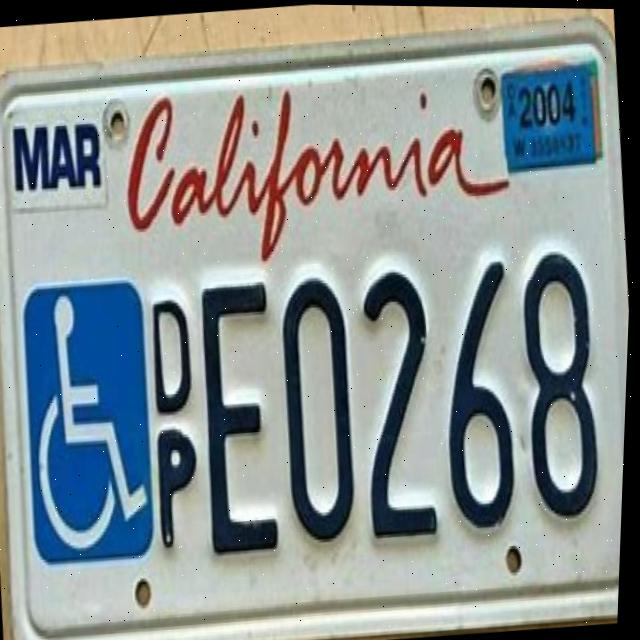symbol_of_access: (24, 282, 164, 564)
